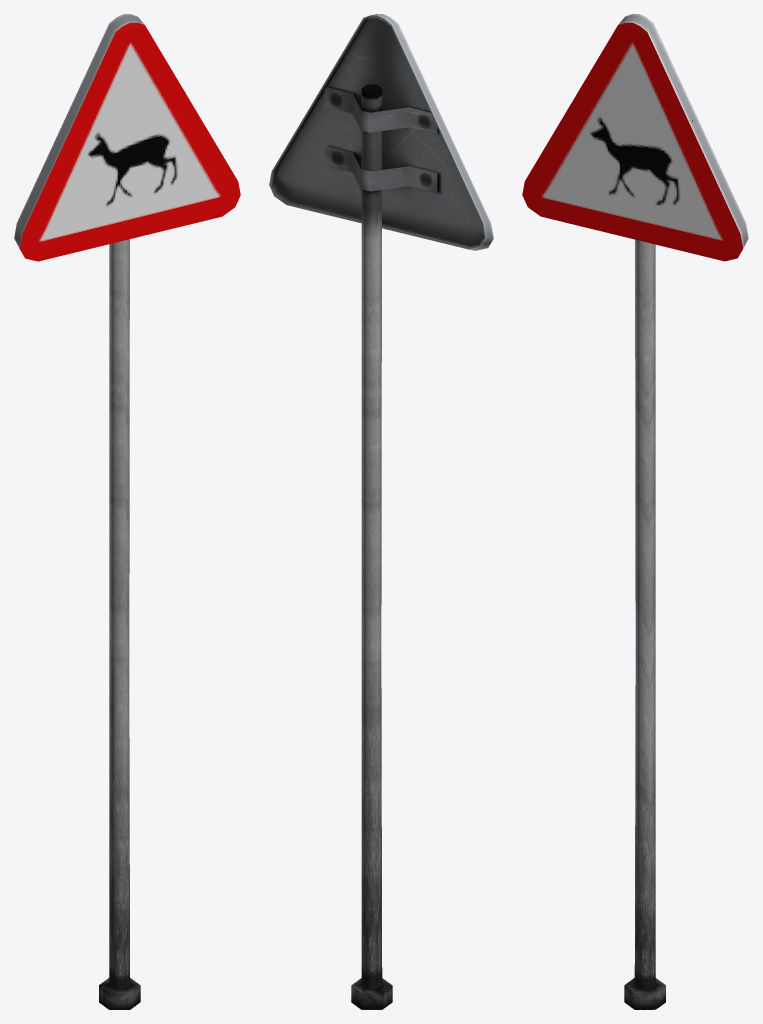
The model's file is ROD0310091.FBX.
3 views of the same model, side by side, from view 1: azimuth 30°, elevation 25°; view 2: azimuth 150°, elevation 25°; view 3: azimuth 330°, elevation 25° (orthographic).
Visible parts, largest first — view 1: smROD0310091; view 2: smROD0310091; view 3: smROD0310091.
Boxes of the visible parts, x1=… form: smROD0310091: x1=14, y1=14, x2=240, y2=1009; smROD0310091: x1=269, y1=14, x2=493, y2=1009; smROD0310091: x1=522, y1=14, x2=748, y2=1009.
Bounding box in the file's own units: 0.7052 × 3.02 × 0.1216.
1 material, 1 textured.
